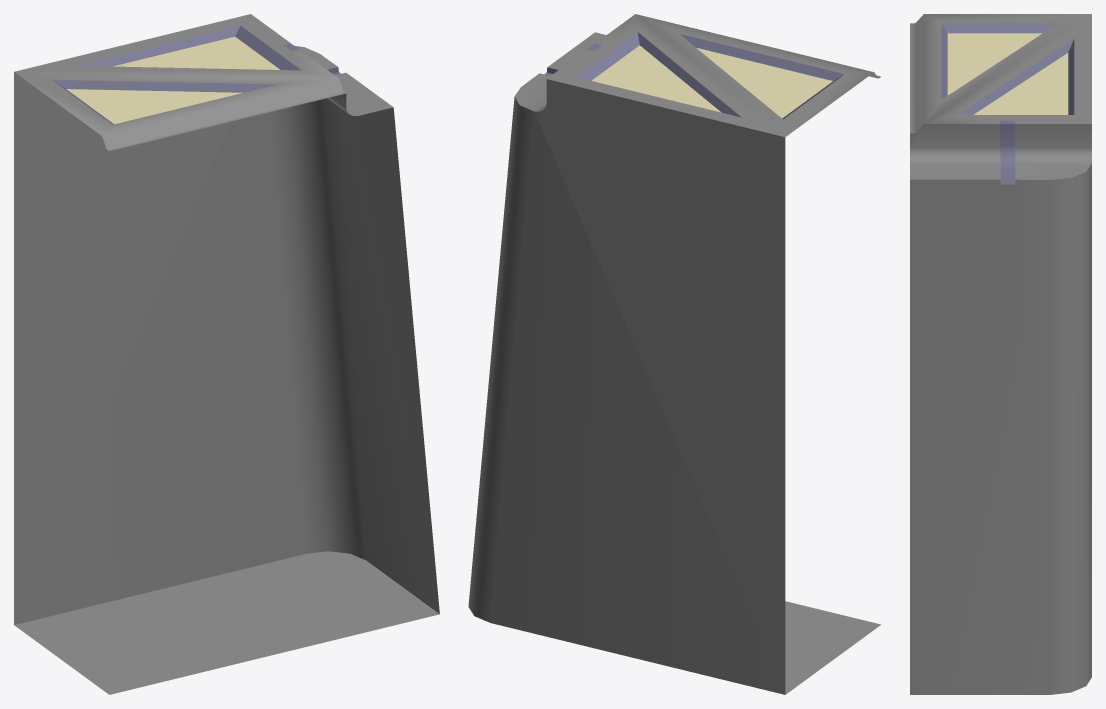
File: hangarCorner.fbx
3 renders of one model, left to right at view 1: azimuth 30°, elevation 25°; view 2: azimuth 150°, elevation 25°; view 3: azimuth 270°, elevation 25°, orthographic. The views are drawn at different scales.
Visible parts, largest first — view 1: Cube.002; view 2: Cube.002; view 3: Cube.002.
Part boxes in pixels (box(x1,y1,x2,y2)): Cube.002: box(14, 14, 439, 694); Cube.002: box(468, 14, 880, 694); Cube.002: box(910, 14, 1091, 694).
Size of the model in its own units: 750 by 1200 by 375.
